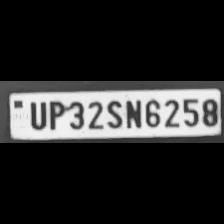2: (85, 98, 103, 130), (162, 96, 178, 128)
3: (65, 99, 84, 130)
5: (180, 96, 198, 127)
6: (142, 96, 160, 128)
8: (200, 96, 218, 128)
N: (122, 97, 142, 129)
P: (46, 98, 64, 130)
S: (104, 98, 122, 130)
U: (26, 99, 46, 129)
